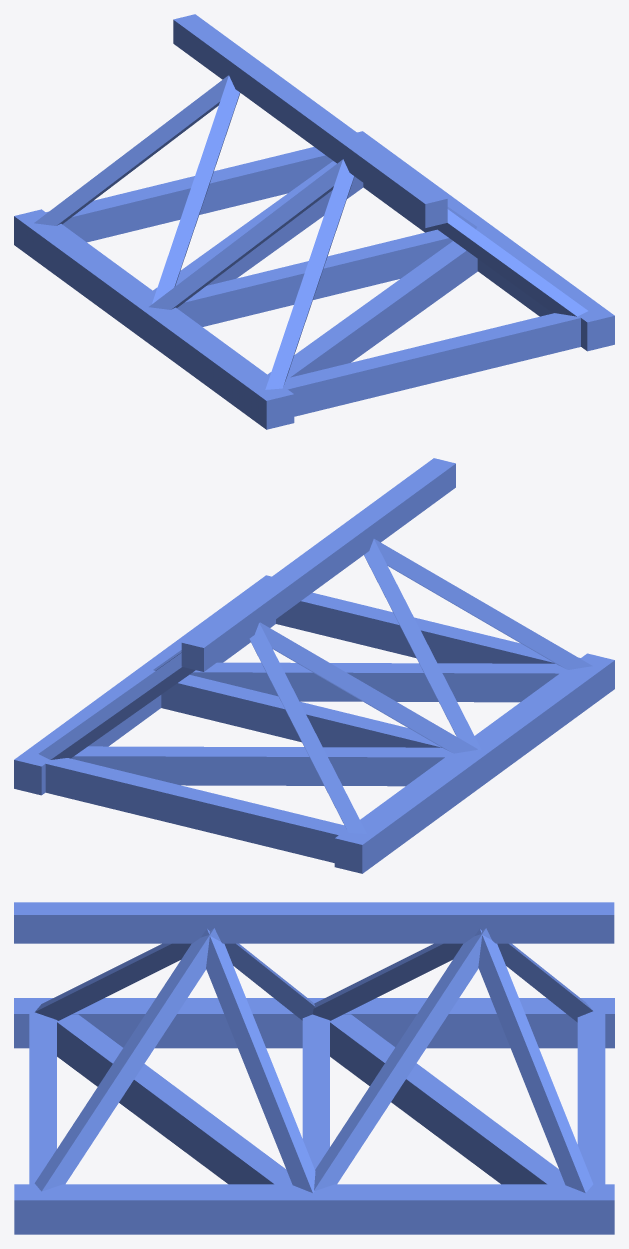
File: flatArmForearm.glb
3 renders of one model, top to bottom at view 1: azimuth 30°, elevation 25°; view 2: azimuth 150°, elevation 25°; view 3: azimuth 270°, elevation 25°, orthographic. The views are drawn at different scales.
Visible parts, largest first — view 1: forearm; view 2: forearm; view 3: forearm.
Boxes of the visible parts, left/top/right/bottom form: forearm: left=14, top=14, right=614, bottom=429; forearm: left=14, top=458, right=614, bottom=873; forearm: left=14, top=902, right=614, bottom=1234.
Size of the model in its own units: 63.05 by 32.36 by 79.1.
